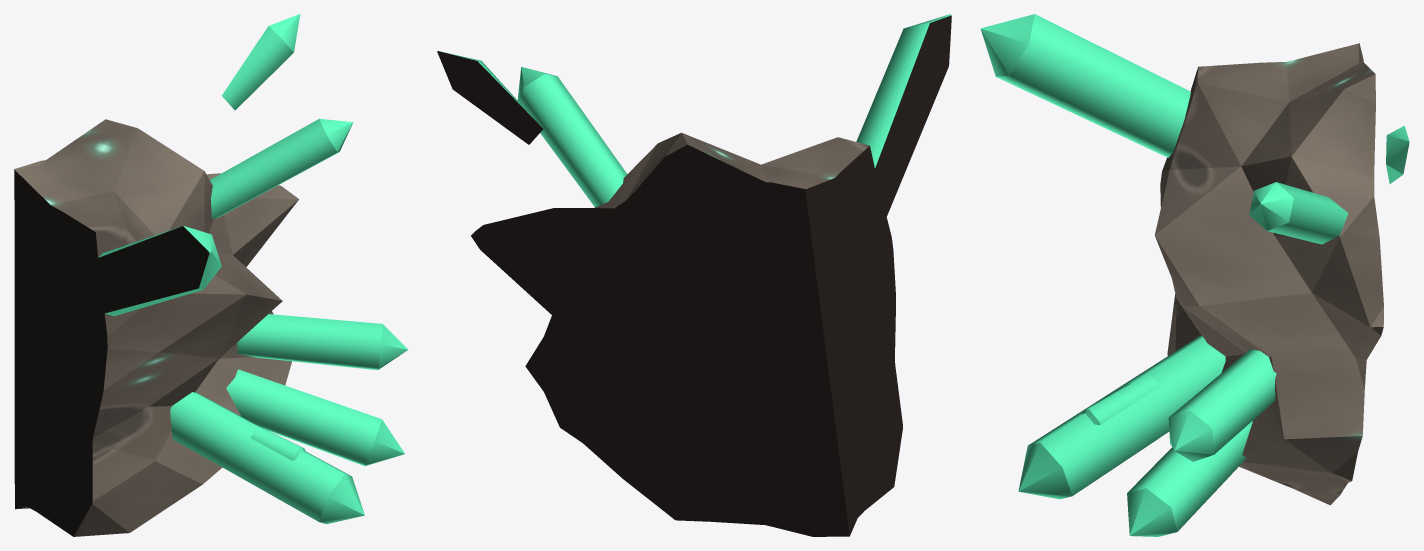
The model's file is cosmium_asteroid_debris5.obj.
The picture shows the model from 3 angles, left to right: view 1: azimuth 30°, elevation 25°; view 2: azimuth 150°, elevation 25°; view 3: azimuth 270°, elevation 25°; orthographic projection. The views are drawn at different scales.
Parts seen in each view (by area): view 1: rock, crystal; view 2: rock, crystal; view 3: rock, crystal.
Part boxes in pixels (x1,y1,x2,y2): rock: [14, 119, 298, 536]; crystal: [38, 14, 408, 524]; rock: [471, 132, 902, 536]; crystal: [437, 14, 951, 398]; rock: [1154, 43, 1383, 505]; crystal: [980, 14, 1409, 536].
Bounding box in the file's own units: 59.9 × 68.75 × 57.52.
Materials: 3 (1 with a texture image).
